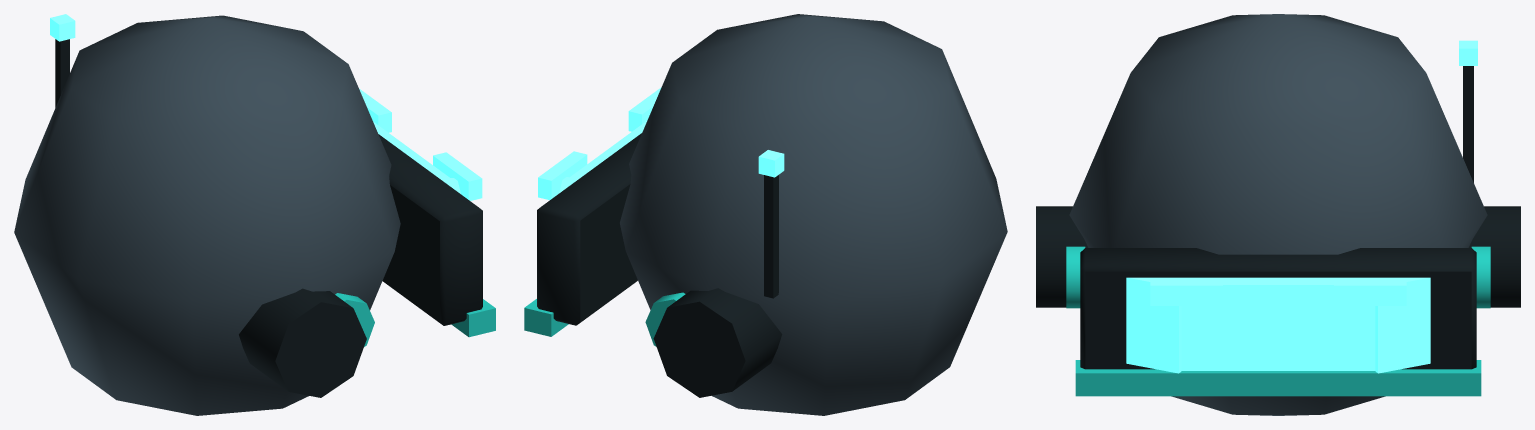
The model's file is invocador_visor.glb.
3 renders of one model, left to right at view 1: azimuth 30°, elevation 25°; view 2: azimuth 150°, elevation 25°; view 3: azimuth 270°, elevation 25°, orthographic.
Visible parts, largest first — view 1: invocador_visor; view 2: invocador_visor; view 3: invocador_visor.
Boxes of the visible parts, bbox=[...] form: invocador_visor: bbox=[14, 14, 495, 415]; invocador_visor: bbox=[524, 14, 1007, 415]; invocador_visor: bbox=[1036, 14, 1520, 415].
Size of the model in its own units: 0.2767 by 0.28 by 0.306.
